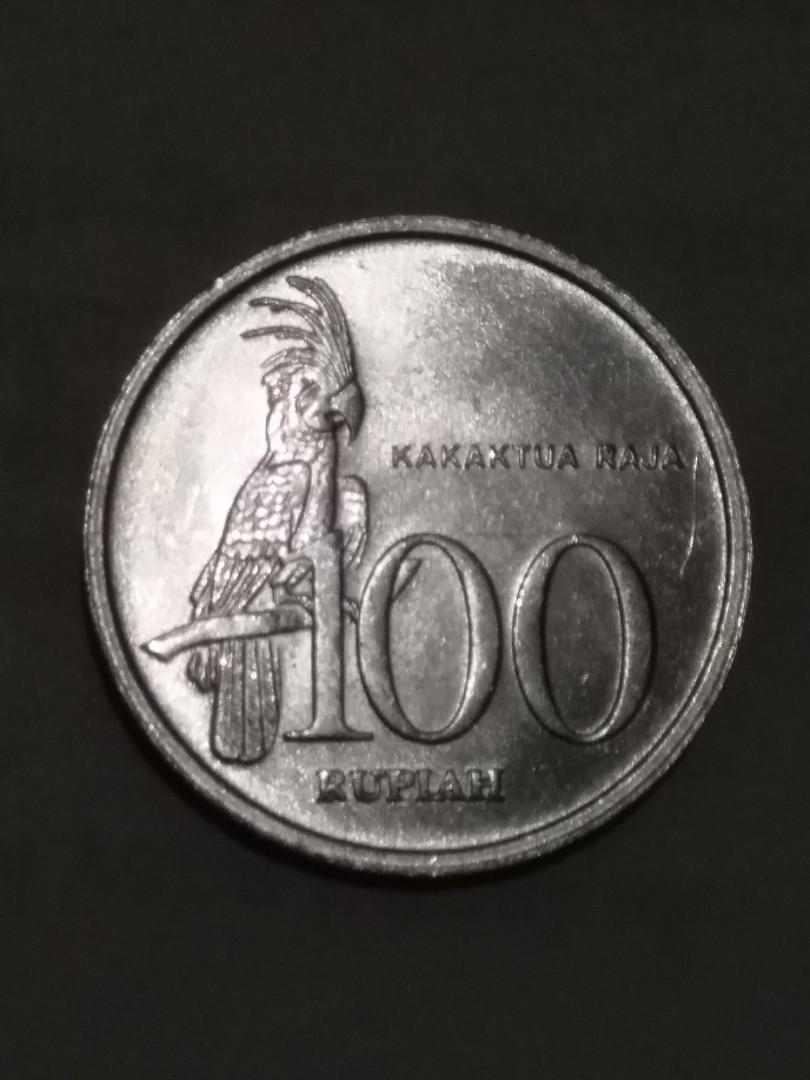coin_100_e1999: (82, 208, 754, 883)
